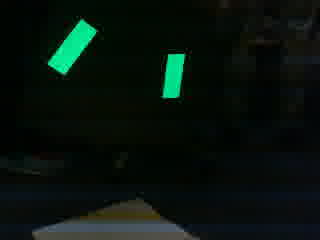target: (46, 18, 189, 101)
